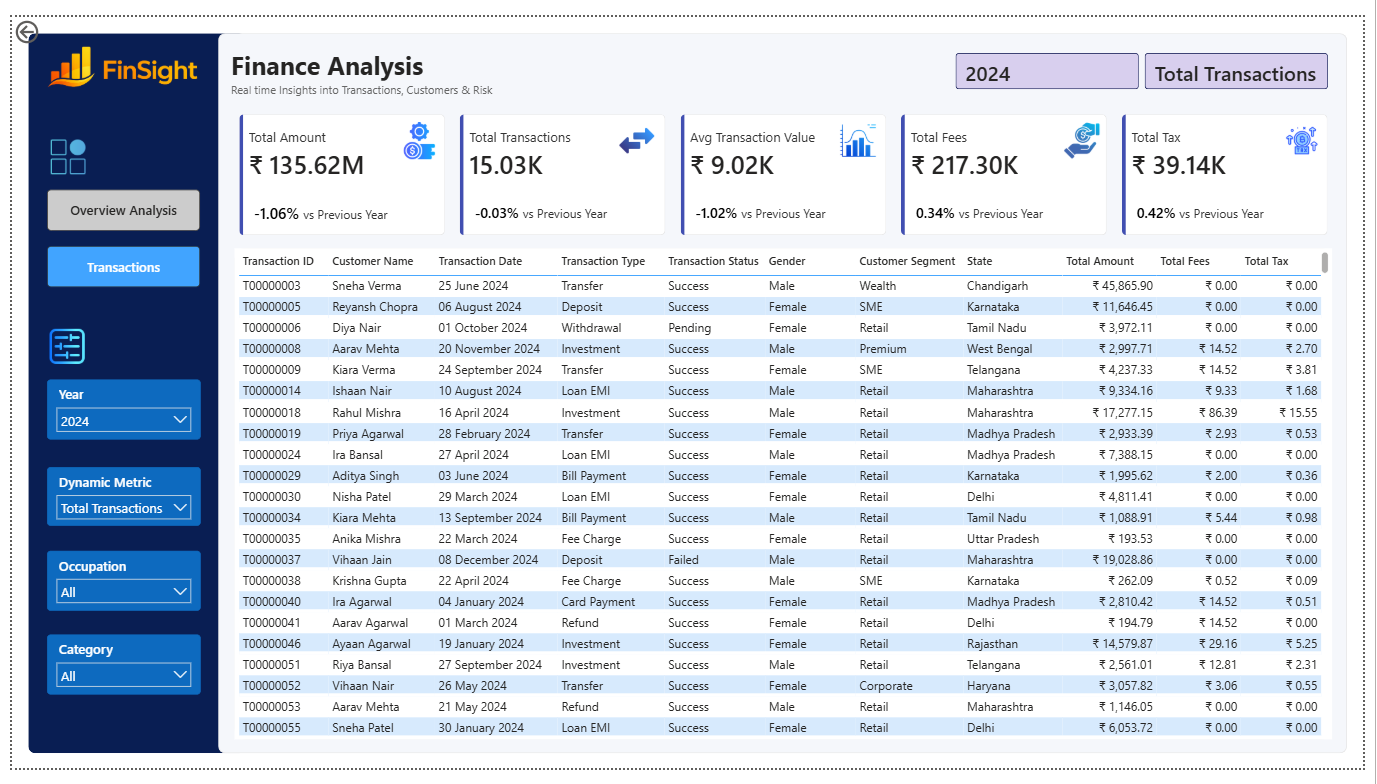

This screenshot's page, from the dashboard's own definition file:
{"tool":"powerbi","page":{"name":"Transactions","canvas":[1800,1000],"ordinal":1},"visuals":[{"type":"shape","box":[21.7,21.7,289.8,959.3],"z":0},{"type":"shape","box":[274.8,21.7,1503.9,959.3],"z":1000},{"type":"image","box":[40,21.7,219.8,89.9],"z":2000},{"type":"cardVisual","fields":{"Data":["Calendar Table.Dashboard Title"]},"box":[274.8,23.3,411.4,101.6],"z":3000},{"type":"cardVisual","fields":{"Data":["finance_transactions.Total Amount","finance_transactions.Total Transactions","finance_transactions.Avg Transaction Value","finance_transactions.Total Fees","finance_transactions.Total Tax"]},"box":[296.4,123.2,1462.3,173.2],"z":4000},{"type":"image","box":[517.9,139.9,50,50],"z":5000},{"type":"image","box":[807.7,139.9,50,50],"z":6000},{"type":"image","box":[1400.6,139.9,50,50],"z":7000},{"type":"image","box":[1102.5,139.9,50,50],"z":8000},{"type":"image","box":[1693.7,139.9,50,50],"z":9000},{"type":"shape","box":[296.4,308.1,1462.3,654.5],"z":10000},{"type":"cardVisual","fields":{"Data":["finance_transactions.Selected Year","finance_transactions.Selected Dynamic Metric"]},"box":[1252.4,43.3,506.3,58.3],"z":11000},{"type":"tableEx","fields":{"Values":["finance_transactions.transaction_id","customers.Customer Name","finance_transactions.transaction_date","finance_transactions.transaction_type","finance_transactions.transaction_status","customers.gender","customers.customer_segment","customers.state","finance_transactions.Total Amount","finance_transactions.Total Fees","finance_transactions.Total Tax"]},"box":[296.4,308.1,1462.3,654.5],"z":12000},{"type":"actionButton","box":[0,0,100,40],"z":13000},{"type":"slicer","fields":{"Values":["Calendar Table.Year"]},"box":[46.6,483,204.8,79.9],"z":14000},{"type":"slicer","fields":{"Values":["Dynamic Metric.Dynamic Metric"]},"box":[46.6,599.6,204.8,78.3],"z":15000},{"type":"slicer","fields":{"Values":["customers.occupation"]},"box":[46.6,711.1,204.8,79.9],"z":16000},{"type":"slicer","fields":{"Values":["finance_transactions.merchant_category"]},"box":[46.6,822.7,204.8,79.9],"z":17000},{"type":"pageNavigator","box":[46.6,229.8,204.8,131.6],"z":18000},{"type":"image","box":[50,163.2,50,46.6],"z":19000},{"type":"image","box":[46.6,406.4,53.3,65],"z":20000}]}

Visuals, with their boxes on the page's 1800x1000 design canvas (x1, y1, x2, y2). These are canvas units, not pixel positions in the 1377x784 screenshot, which may show the page scaled, cropped or inside an application window:
shape: Rect(22, 22, 312, 981)
shape: Rect(275, 22, 1779, 981)
image: Rect(40, 22, 260, 112)
cardVisual - Calendar Table.Dashboard Title: Rect(275, 23, 686, 125)
cardVisual - finance_transactions.Total Amount x finance_transactions.Total Transactions: Rect(296, 123, 1759, 296)
image: Rect(518, 140, 568, 190)
image: Rect(808, 140, 858, 190)
image: Rect(1401, 140, 1451, 190)
image: Rect(1102, 140, 1152, 190)
image: Rect(1694, 140, 1744, 190)
shape: Rect(296, 308, 1759, 963)
cardVisual - finance_transactions.Selected Year x finance_transactions.Selected Dynamic Metric: Rect(1252, 43, 1759, 102)
tableEx - finance_transactions.transaction_id x customers.Customer Name: Rect(296, 308, 1759, 963)
actionButton: Rect(0, 0, 100, 40)
slicer - Calendar Table.Year: Rect(47, 483, 251, 563)
slicer - Dynamic Metric.Dynamic Metric: Rect(47, 600, 251, 678)
slicer - customers.occupation: Rect(47, 711, 251, 791)
slicer - finance_transactions.merchant_category: Rect(47, 823, 251, 903)
pageNavigator: Rect(47, 230, 251, 361)
image: Rect(50, 163, 100, 210)
image: Rect(47, 406, 100, 471)
